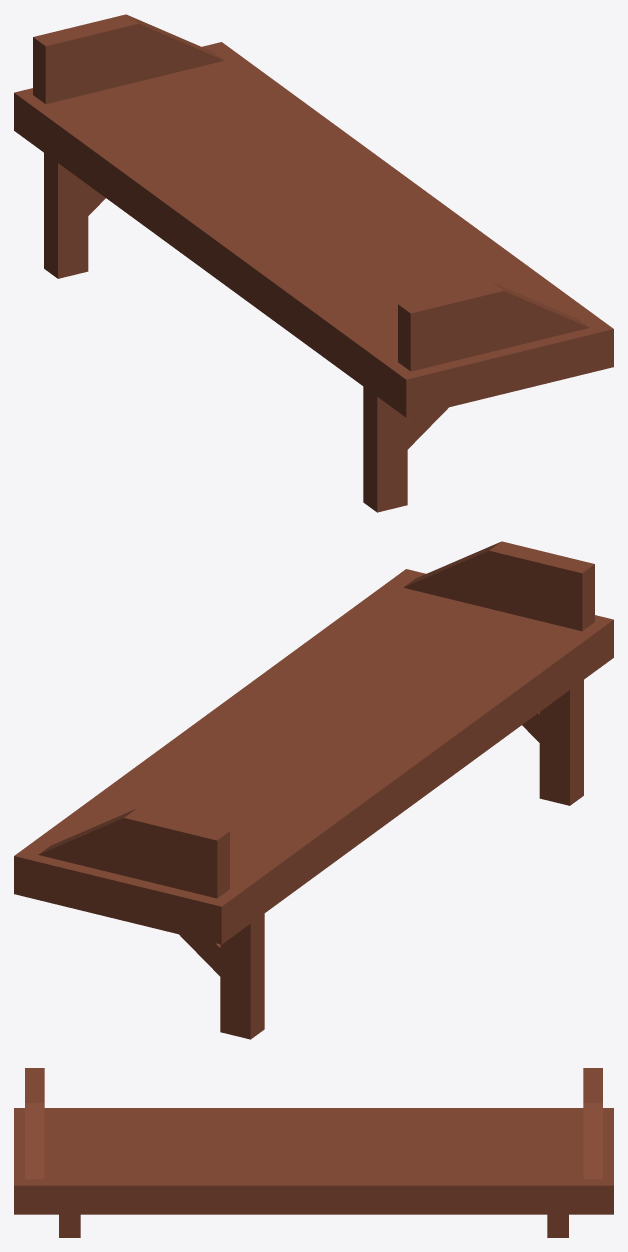
The model's file is polkaSeparate.fbx.
The picture shows the model from 3 angles, top to bottom: view 1: azimuth 30°, elevation 25°; view 2: azimuth 150°, elevation 25°; view 3: azimuth 270°, elevation 25°; orthographic projection. The views are drawn at different scales.
Parts seen in each view (by area): view 1: Polka; view 2: Polka; view 3: Polka.
Boxes of the visible parts, bbox=[...] form: Polka: bbox=[14, 14, 613, 512]; Polka: bbox=[14, 541, 613, 1039]; Polka: bbox=[14, 1068, 613, 1237].
Bounding box in the file's own units: 356 × 348 × 1164.
